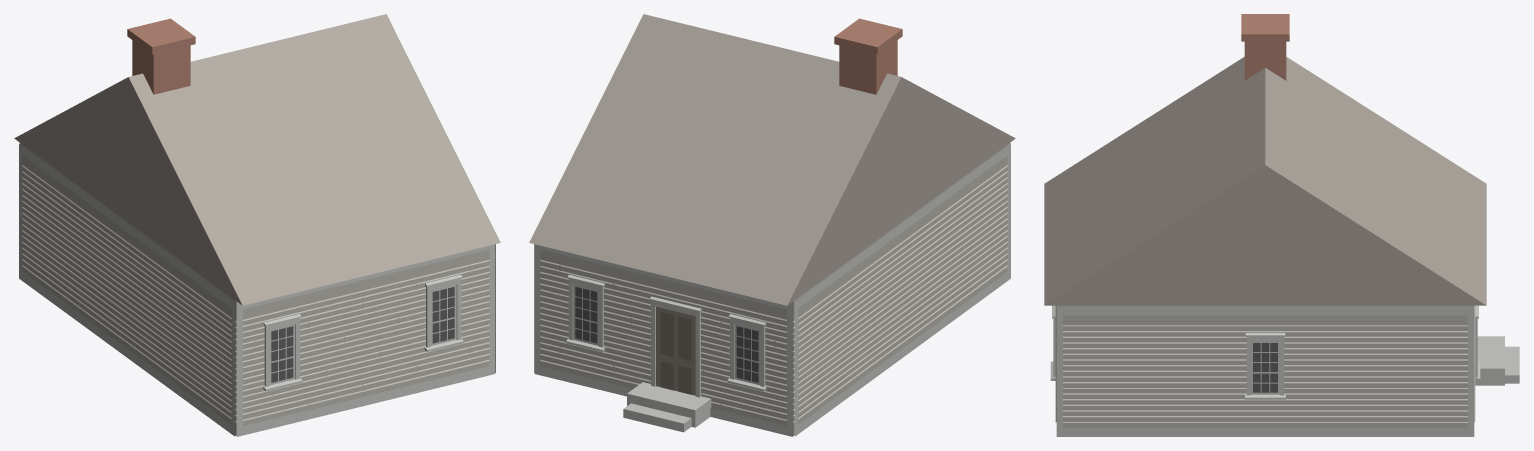
File: recon_1835_blk_washington_clark_d4_14__inferred_1835.glb
The picture shows the model from 3 angles, left to right: view 1: azimuth 30°, elevation 25°; view 2: azimuth 150°, elevation 25°; view 3: azimuth 270°, elevation 25°; orthographic projection. The views are drawn at different scales.
Visible parts, largest first — view 1: recon_1835_blk_washington_clark_d4_14__inferred_1835; view 2: recon_1835_blk_washington_clark_d4_14__inferred_1835; view 3: recon_1835_blk_washington_clark_d4_14__inferred_1835.
Boxes of the visible parts, bbox=[...] form: recon_1835_blk_washington_clark_d4_14__inferred_1835: bbox=[14, 14, 500, 436]; recon_1835_blk_washington_clark_d4_14__inferred_1835: bbox=[529, 14, 1015, 436]; recon_1835_blk_washington_clark_d4_14__inferred_1835: bbox=[1044, 14, 1519, 436].
Bounding box in the file's own units: 6.01 × 6.85 × 9.65.
